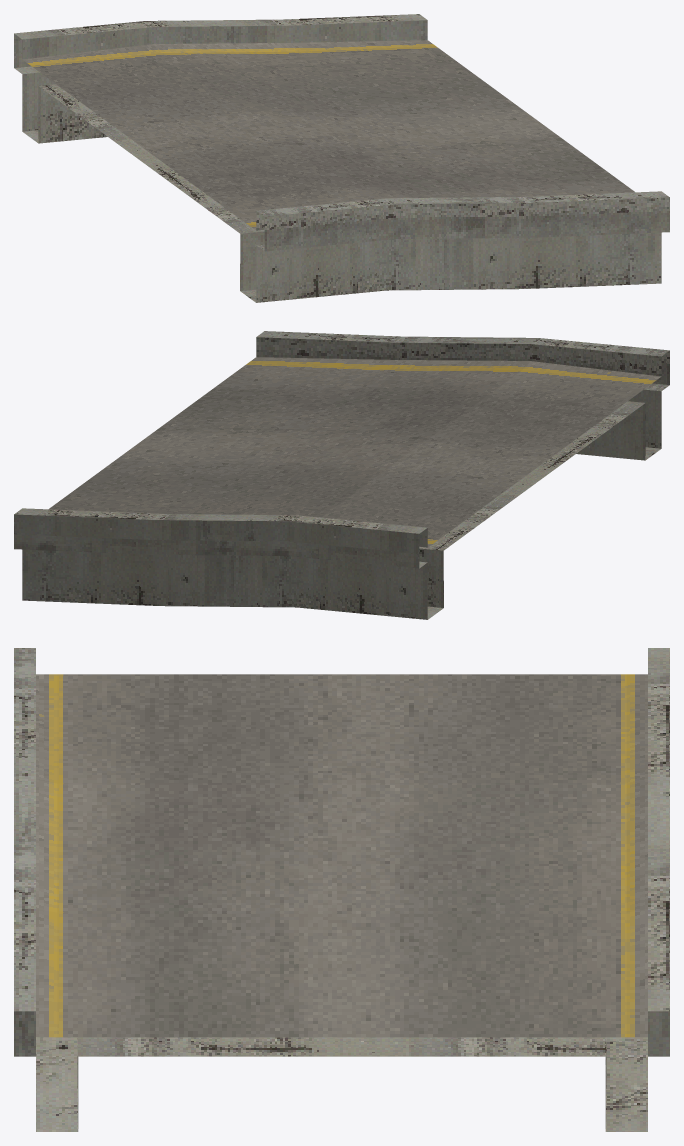
File: road_2_bridge_ramp_no_sides.glb
3 views of the same model, one above another, from view 1: azimuth 30°, elevation 25°; view 2: azimuth 150°, elevation 25°; view 3: azimuth 270°, elevation 25° (orthographic). The views are drawn at different scales.
Visible parts, largest first — view 1: road_2_bridge_ramp_no_sides; view 2: road_2_bridge_ramp_no_sides; view 3: road_2_bridge_ramp_no_sides.
Boxes of the visible parts, x1,y1,x2,y2 form: road_2_bridge_ramp_no_sides: (14,14,669,302); road_2_bridge_ramp_no_sides: (14,331,669,619); road_2_bridge_ramp_no_sides: (14,648,669,1131).
Bounding box in the file's own units: 16 × 6.48 × 17.13.
2 materials, 2 textured.
